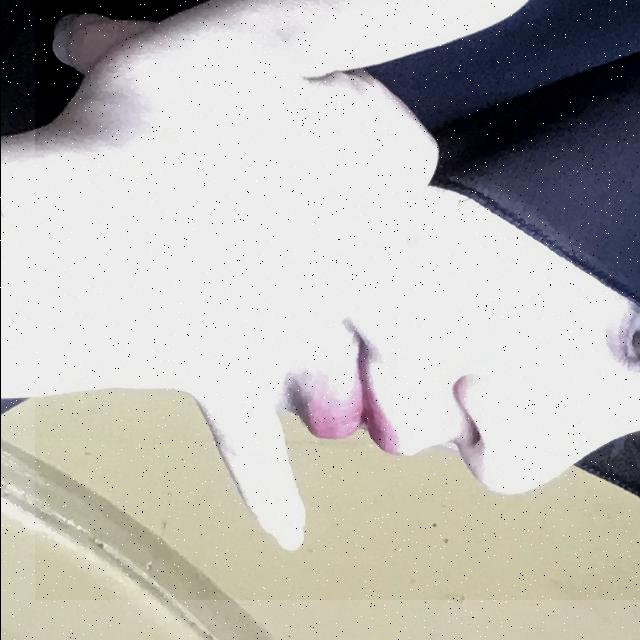telpon: (34, 0, 640, 600)
